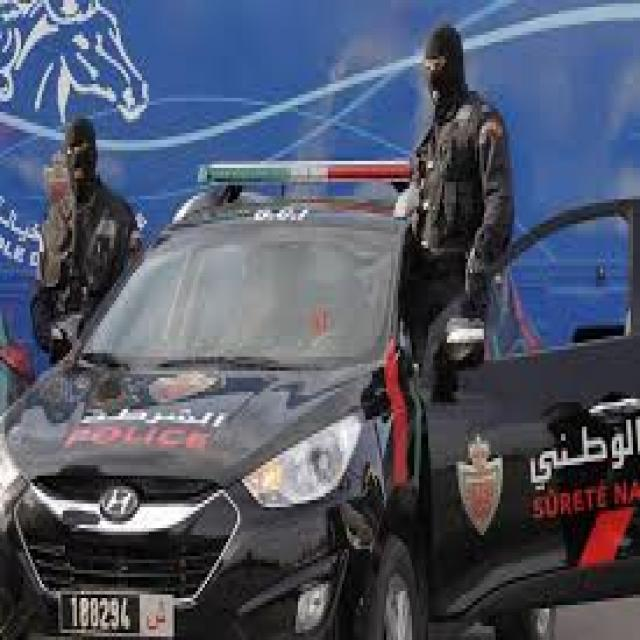police: (2, 154, 640, 633)
